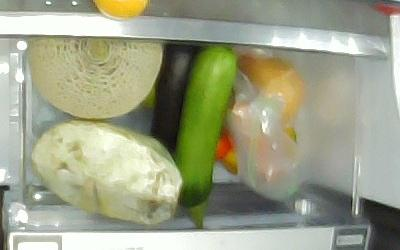cabbage: (31, 122, 183, 227)
eggplant: (150, 44, 197, 157)
melon: (31, 37, 163, 123)
pear_vinyl: (237, 53, 304, 129)
zucchini: (176, 46, 237, 231)
